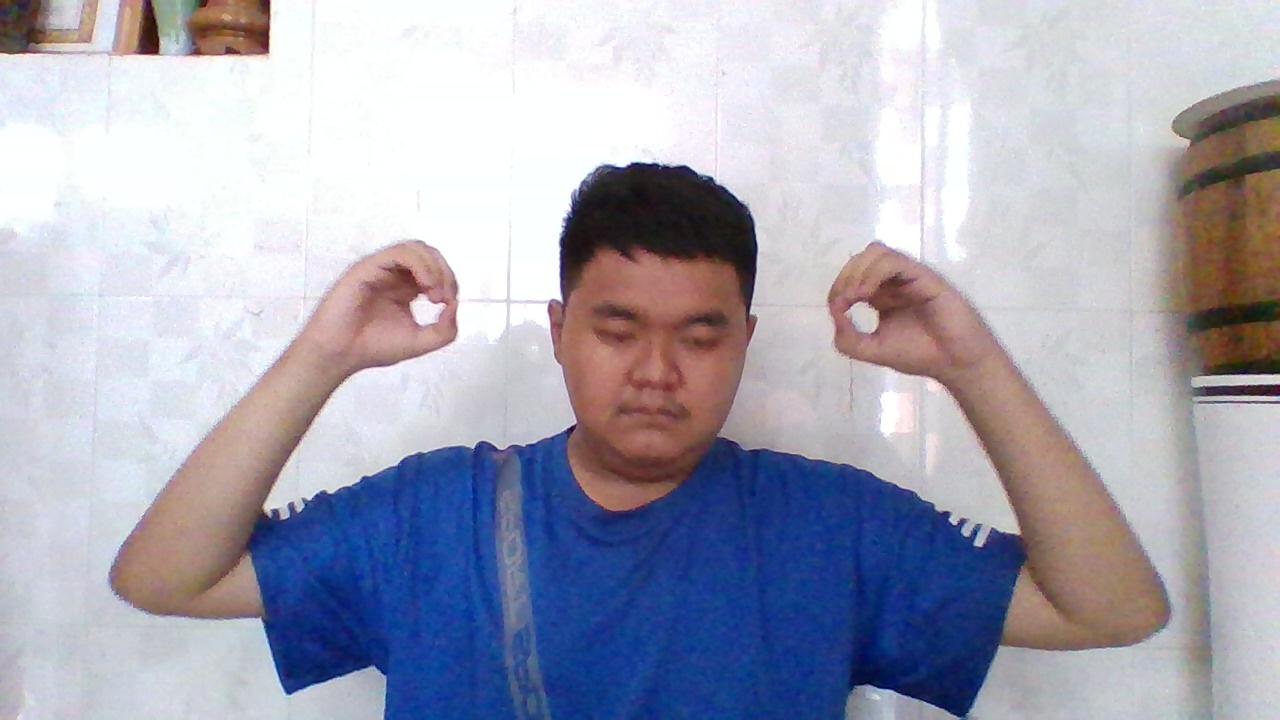O: (819, 234, 974, 381), (319, 229, 468, 374)
